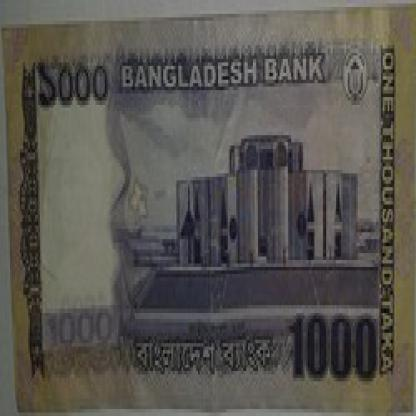One Thousand taka: (283, 294, 389, 392), (20, 42, 120, 121)
